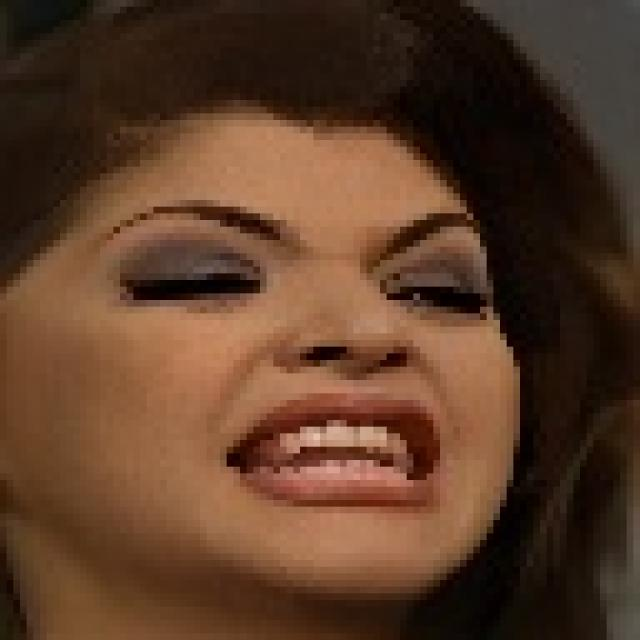Angry: (29, 82, 542, 616)
